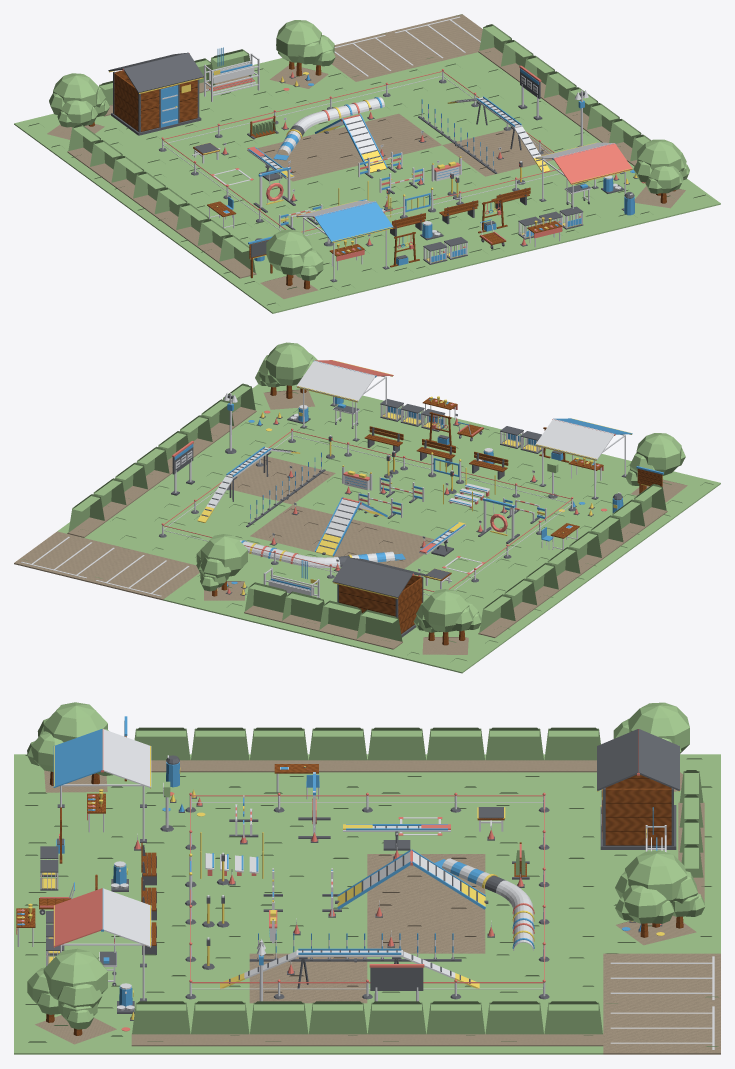
The model's file is dog-agility-and-training-field-club-agil-7d9652a2-starter-scene__35620.glb.
The picture shows the model from 3 angles, top to bottom: view 1: azimuth 30°, elevation 25°; view 2: azimuth 150°, elevation 25°; view 3: azimuth 270°, elevation 25°; orthographic projection. The views are drawn at different scales.
Parts seen in each view (by area): view 1: 025-grass-ground-tile/grass-ground-tile-grass, 115-club-shed/club-shed-charcoal, 024-car-park-marking-tile/car-park-marking-tile-soil, 007-grass-ground-tile/grass-ground-tile-grass, 011-grass-ground-tile/grass-ground-tile-grass, 030-car-park-marking-tile/car-park-marking-tile-soil, 026-grass-ground-tile/grass-ground-tile-grass, 008-grass-ground-tile/grass-ground-tile-grass, 015-grass-ground-tile/grass-ground-tile-grass, 029-grass-ground-tile/grass-ground-tile-grass, 014-worn-grass-ground-tile/worn-grass-ground-tile-grass, 115-club-shed/club-shed-timber (+53 smaller); view 2: 030-car-park-marking-tile/car-park-marking-tile-soil, 024-car-park-marking-tile/car-park-marking-tile-soil, 028-grass-ground-tile/grass-ground-tile-grass, 015-grass-ground-tile/grass-ground-tile-grass, 027-worn-grass-ground-tile/worn-grass-ground-tile-grass, 026-grass-ground-tile/grass-ground-tile-grass, 010-grass-ground-tile/grass-ground-tile-grass, 009-grass-ground-tile/grass-ground-tile-grass, 022-grass-ground-tile/grass-ground-tile-grass, 008-grass-ground-tile/grass-ground-tile-grass, 020-worn-grass-ground-tile/worn-grass-ground-tile-grass, 016-grass-ground-tile/grass-ground-tile-grass (+55 smaller); view 3: 030-car-park-marking-tile/car-park-marking-tile-soil, 020-worn-grass-ground-tile/worn-grass-ground-tile-grass, 025-grass-ground-tile/grass-ground-tile-grass, 024-car-park-marking-tile/car-park-marking-tile-soil, 011-grass-ground-tile/grass-ground-tile-grass, 010-grass-ground-tile/grass-ground-tile-grass, 007-grass-ground-tile/grass-ground-tile-grass, 009-grass-ground-tile/grass-ground-tile-grass, 028-grass-ground-tile/grass-ground-tile-grass, 015-grass-ground-tile/grass-ground-tile-grass, 021-grass-ground-tile/grass-ground-tile-grass, 019-grass-ground-tile/grass-ground-tile-grass (+76 smaller).
Boxes of the visible parts, bbox=[...] form: 025-grass-ground-tile/grass-ground-tile-grass: bbox=[356, 64, 473, 113]; 115-club-shed/club-shed-charcoal: bbox=[108, 52, 203, 135]; 024-car-park-marking-tile/car-park-marking-tile-soil: bbox=[332, 32, 430, 81]; 007-grass-ground-tile/grass-ground-tile-grass: bbox=[132, 118, 247, 167]; 011-grass-ground-tile/grass-ground-tile-grass: bbox=[319, 245, 422, 295]; 030-car-park-marking-tile/car-park-marking-tile-soil: bbox=[388, 14, 482, 63]; 026-grass-ground-tile/grass-ground-tile-grass: bbox=[399, 95, 510, 144]; 008-grass-ground-tile/grass-ground-tile-grass: bbox=[175, 150, 292, 199]; 015-grass-ground-tile/grass-ground-tile-grass: bbox=[293, 164, 409, 207]; 029-grass-ground-tile/grass-ground-tile-grass: bbox=[529, 190, 646, 240]; 014-worn-grass-ground-tile/worn-grass-ground-tile-grass: bbox=[257, 132, 362, 181]; 115-club-shed/club-shed-timber: bbox=[114, 70, 197, 131]; 030-car-park-marking-tile/car-park-marking-tile-soil: bbox=[14, 531, 131, 582]; 024-car-park-marking-tile/car-park-marking-tile-soil: bbox=[88, 549, 199, 600]; 028-grass-ground-tile/grass-ground-tile-grass: bbox=[265, 423, 377, 472]; 015-grass-ground-tile/grass-ground-tile-grass: bbox=[368, 491, 483, 539]; 027-worn-grass-ground-tile/worn-grass-ground-tile-grass: bbox=[218, 456, 335, 504]; 026-grass-ground-tile/grass-ground-tile-grass: bbox=[175, 486, 292, 536]; 010-grass-ground-tile/grass-ground-tile-grass: bbox=[486, 478, 602, 527]; 009-grass-ground-tile/grass-ground-tile-grass: bbox=[448, 510, 559, 559]; 022-grass-ground-tile/grass-ground-tile-grass: bbox=[336, 442, 453, 491]; 008-grass-ground-tile/grass-ground-tile-grass: bbox=[404, 542, 516, 590]; 020-worn-grass-ground-tile/worn-grass-ground-tile-grass: bbox=[250, 505, 366, 553]; 016-grass-ground-tile/grass-ground-tile-grass: bbox=[411, 460, 527, 508]; 030-car-park-marking-tile/car-park-marking-tile-soil: bbox=[603, 1003, 720, 1054]; 020-worn-grass-ground-tile/worn-grass-ground-tile-grass: bbox=[367, 903, 485, 953]; 025-grass-ground-tile/grass-ground-tile-grass: bbox=[485, 953, 603, 1003]; 024-car-park-marking-tile/car-park-marking-tile-soil: bbox=[603, 953, 720, 1003]; 011-grass-ground-tile/grass-ground-tile-grass: bbox=[14, 804, 131, 853]; 010-grass-ground-tile/grass-ground-tile-grass: bbox=[131, 804, 249, 853]; 007-grass-ground-tile/grass-ground-tile-grass: bbox=[485, 804, 603, 853]; 009-grass-ground-tile/grass-ground-tile-grass: bbox=[249, 804, 367, 853]; 028-grass-ground-tile/grass-ground-tile-grass: bbox=[131, 953, 249, 1003]; 015-grass-ground-tile/grass-ground-tile-grass: bbox=[249, 854, 367, 903]; 021-grass-ground-tile/grass-ground-tile-grass: bbox=[249, 903, 367, 953]; 019-grass-ground-tile/grass-ground-tile-grass: bbox=[485, 903, 603, 953].
Bounding box in the file's own units: 24 × 3.04 × 24.
8 materials, 2 textured.
